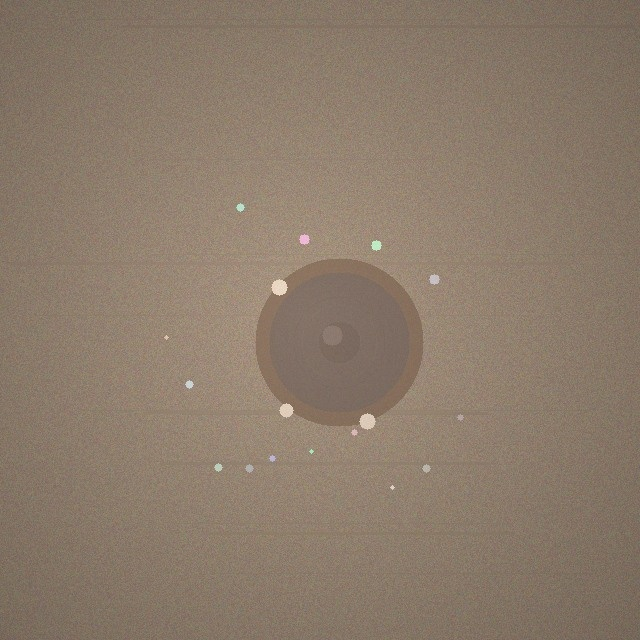overburn: (255, 258, 423, 426)
